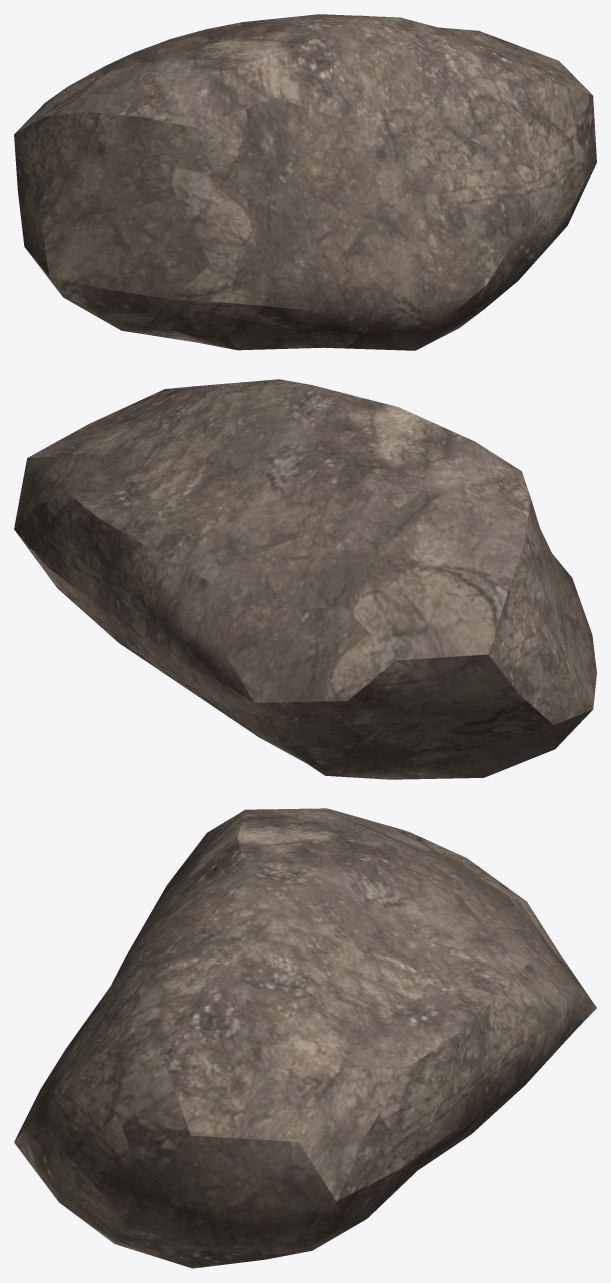
File: rock_02.glb
3 renders of one model, top to bottom at view 1: azimuth 30°, elevation 25°; view 2: azimuth 150°, elevation 25°; view 3: azimuth 270°, elevation 25°, orthographic. The views are drawn at different scales.
Visible parts, largest first — view 1: rock_02; view 2: rock_02; view 3: rock_02.
Boxes of the visible parts, left/top/right/bottom form: rock_02: left=14, top=14, right=596, bottom=350; rock_02: left=14, top=379, right=596, bottom=779; rock_02: left=14, top=808, right=596, bottom=1268.
Size of the model in its own units: 0.8929 by 0.4576 by 0.7216.
1 material, 1 textured.
